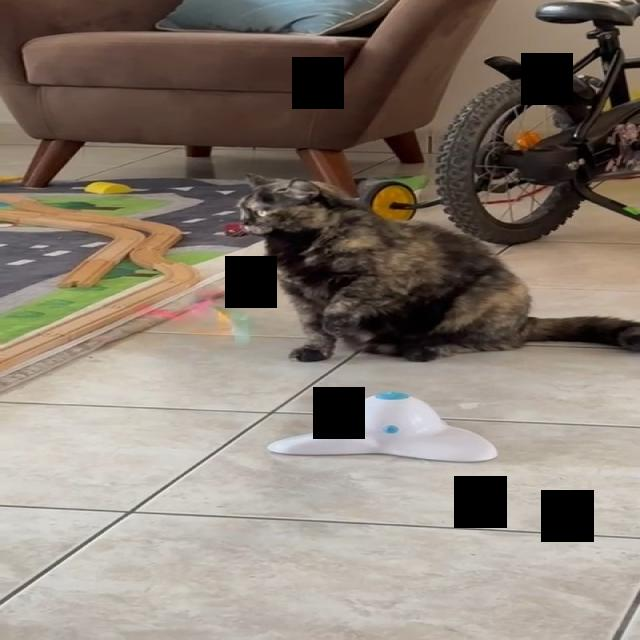authorized: (233, 171, 639, 363)
